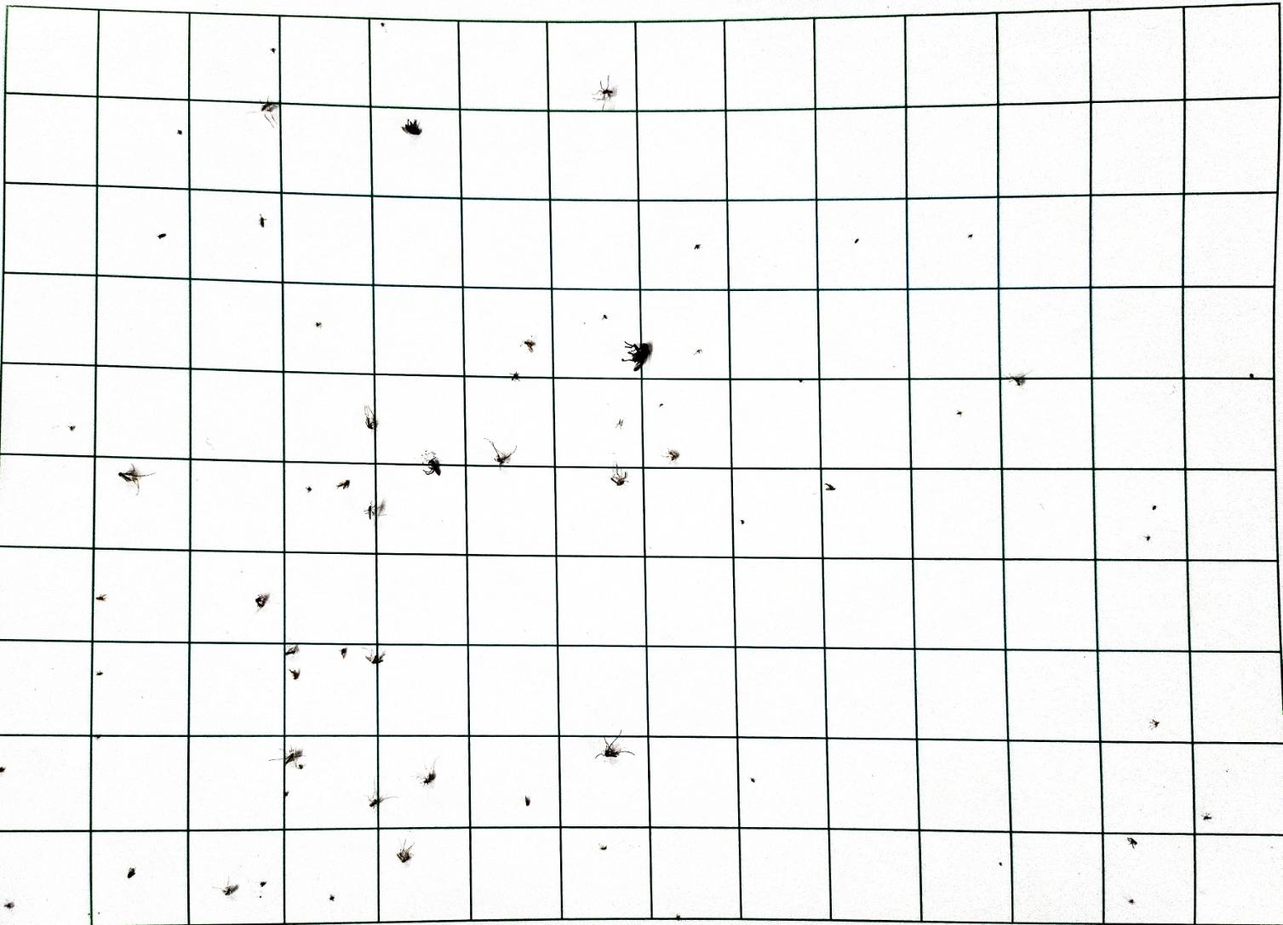fly: (622, 339, 653, 372), (401, 119, 422, 136)
test: (594, 729, 635, 760), (117, 463, 155, 494), (365, 775, 396, 808), (591, 75, 618, 111), (270, 744, 306, 771), (484, 437, 516, 467), (414, 755, 440, 788), (251, 97, 278, 128), (213, 874, 241, 898), (420, 449, 442, 476), (395, 836, 416, 864), (609, 462, 629, 487), (1005, 369, 1032, 386), (365, 498, 384, 521), (362, 403, 378, 430), (363, 647, 385, 665), (254, 592, 271, 610), (118, 470, 135, 483), (284, 644, 300, 657), (666, 449, 680, 462), (524, 339, 536, 353), (257, 882, 267, 898), (288, 667, 300, 680), (336, 479, 350, 490), (1127, 836, 1139, 848), (3, 899, 16, 910), (126, 866, 136, 879), (369, 796, 379, 809), (205, 437, 214, 450), (258, 214, 266, 228), (1149, 719, 1160, 729), (1202, 812, 1213, 821), (340, 647, 348, 659), (95, 594, 107, 602), (510, 372, 520, 381), (598, 842, 608, 851), (616, 418, 624, 429), (825, 483, 836, 491), (524, 795, 531, 806), (694, 348, 703, 355), (157, 233, 167, 239), (314, 321, 322, 328), (69, 424, 77, 431), (0, 766, 7, 774), (259, 881, 267, 888), (675, 913, 682, 921), (1127, 898, 1135, 905), (694, 243, 701, 250), (305, 486, 312, 493), (749, 777, 756, 784), (1249, 372, 1256, 379), (329, 894, 335, 902), (96, 670, 104, 676), (1143, 535, 1151, 541), (94, 734, 102, 740), (601, 314, 608, 320), (956, 410, 963, 416), (380, 21, 386, 28), (853, 237, 859, 244), (967, 233, 974, 239), (87, 910, 93, 917), (284, 790, 289, 798), (270, 47, 276, 53), (177, 129, 183, 135), (658, 402, 664, 408), (1152, 504, 1158, 510), (739, 519, 745, 525), (798, 378, 804, 384), (998, 861, 1003, 866)
